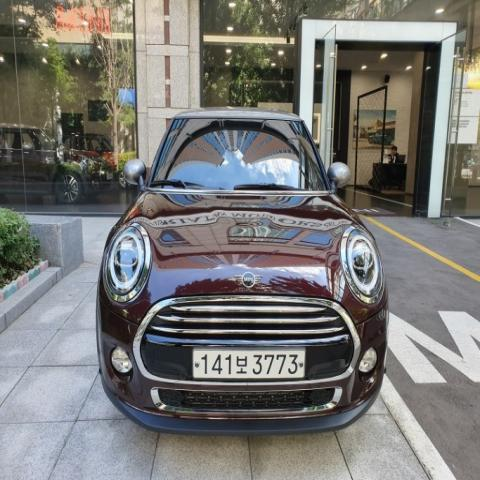LP: (192, 341, 309, 389)
